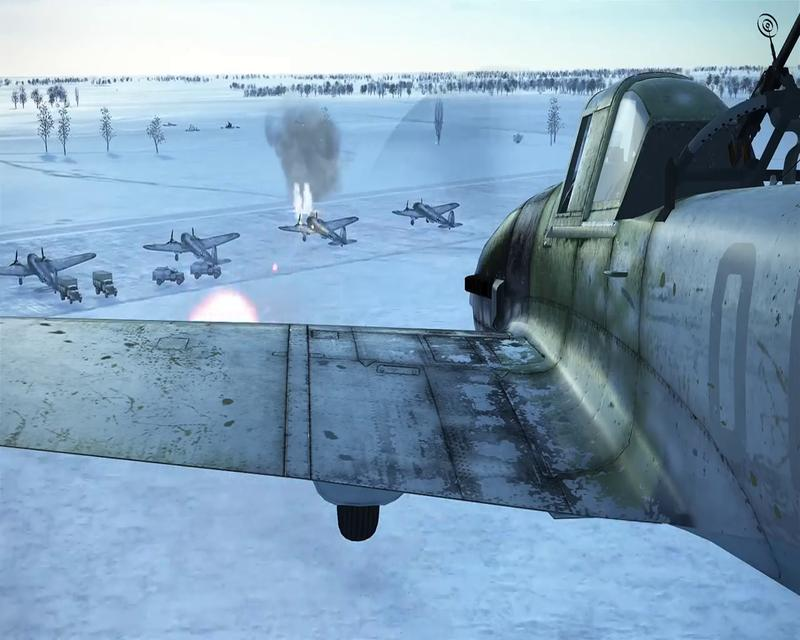UAV: (0, 247, 96, 290), (147, 230, 243, 265), (279, 212, 358, 249), (392, 199, 461, 230)
